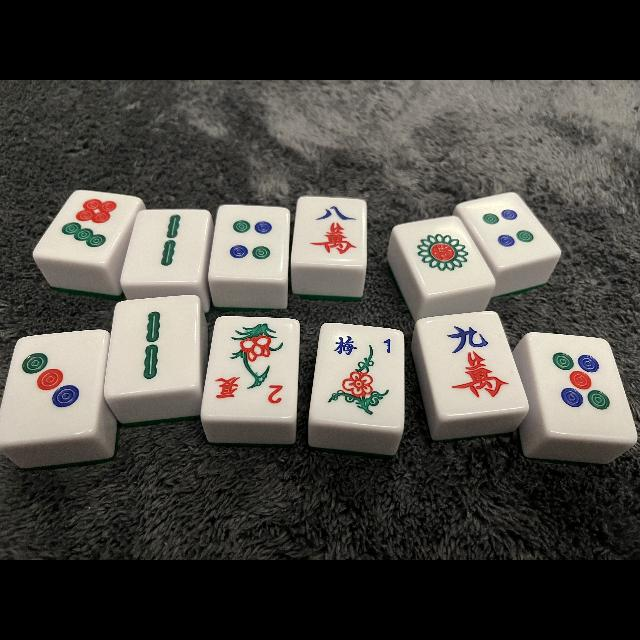b2: (110, 297, 196, 388), (130, 210, 204, 280)
c8: (296, 198, 366, 264)
c9: (429, 314, 516, 412)
d1: (407, 221, 479, 289)
d3: (7, 334, 95, 431)
d4: (216, 206, 286, 278), (474, 197, 546, 261)
d5: (534, 336, 628, 434)
d7: (52, 194, 132, 256)
f1: (324, 328, 404, 360)
s2: (208, 369, 294, 415)
